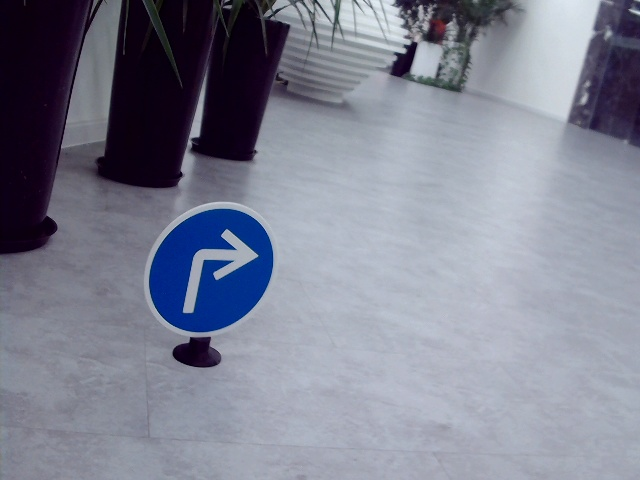turn_right: (181, 229, 252, 318)
